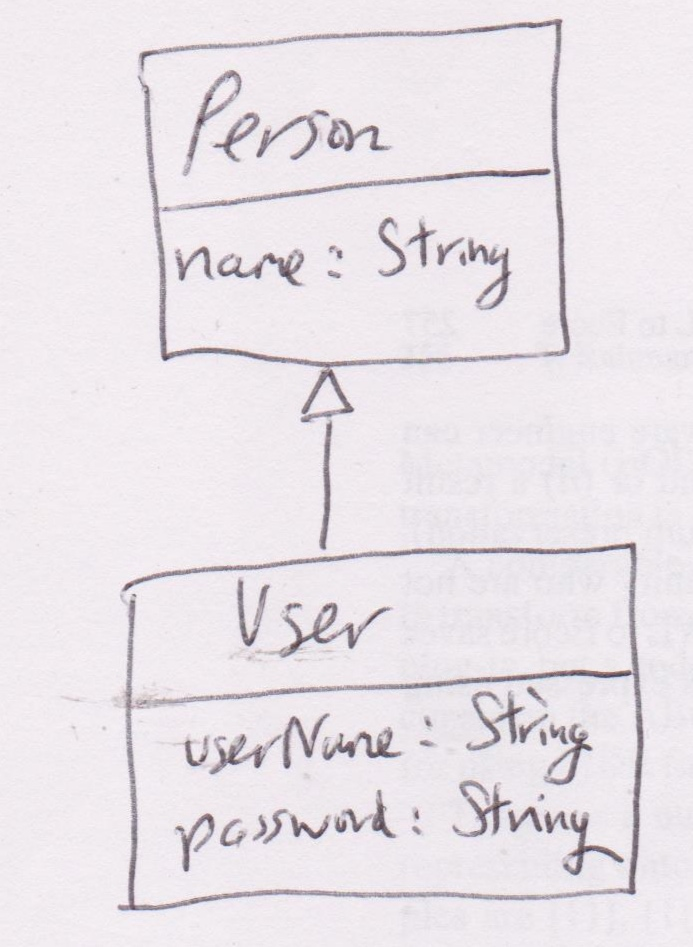class attributes: (118, 541, 647, 915), (136, 15, 575, 372)
inheritance: (294, 362, 359, 553)
